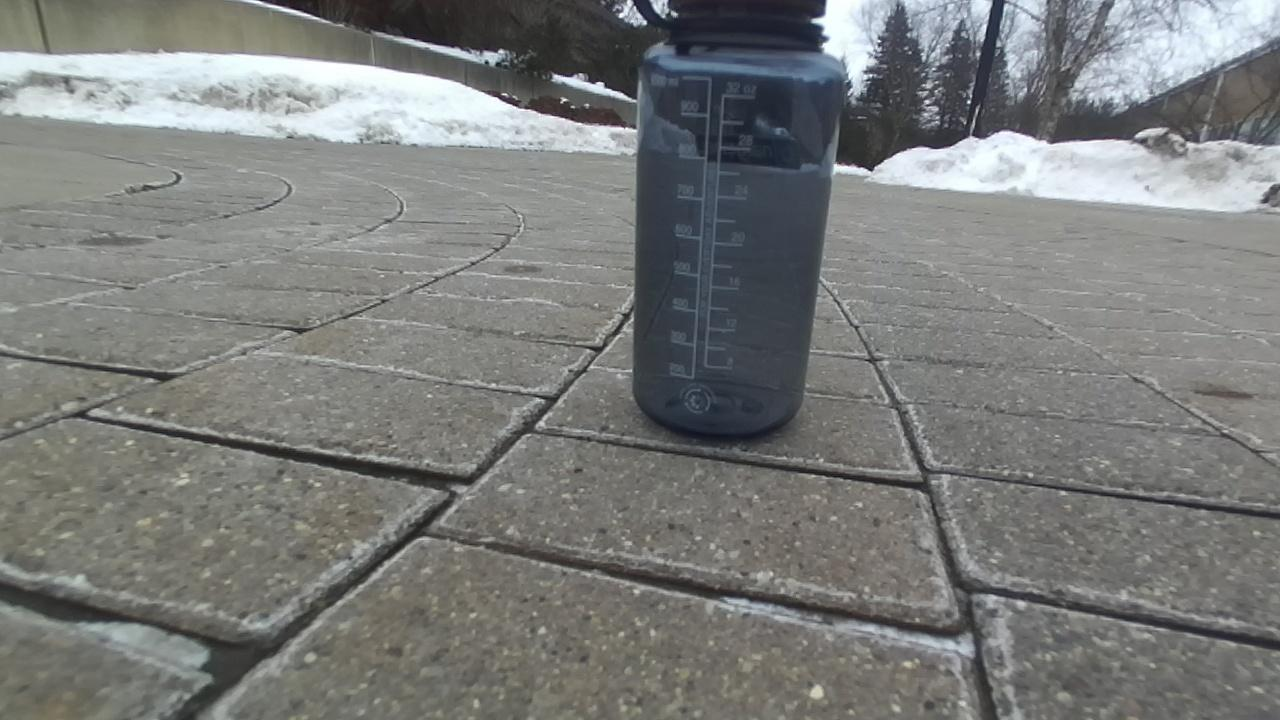bottle: (633, 0, 844, 436)
